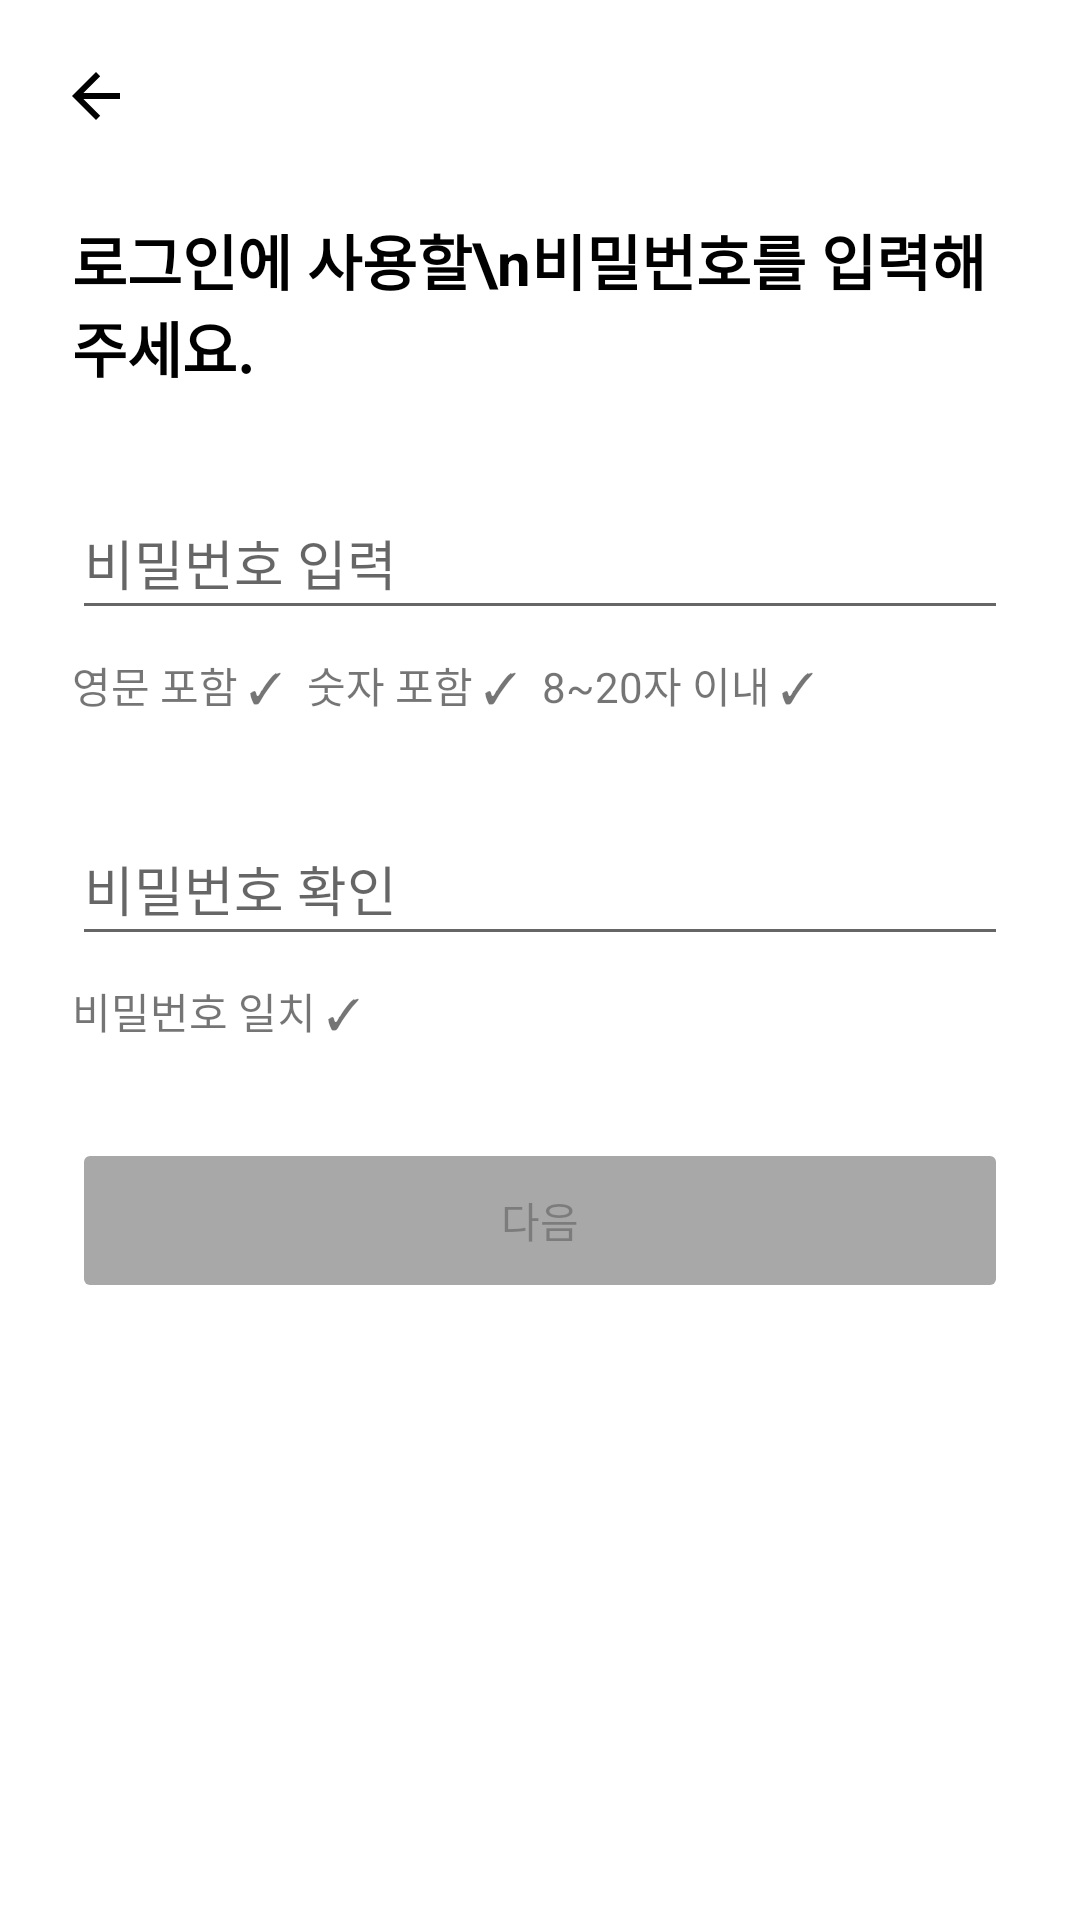

Where to tap for icons on this 1080px×1920px app screen, as (x,y):
go back: (96,96)
